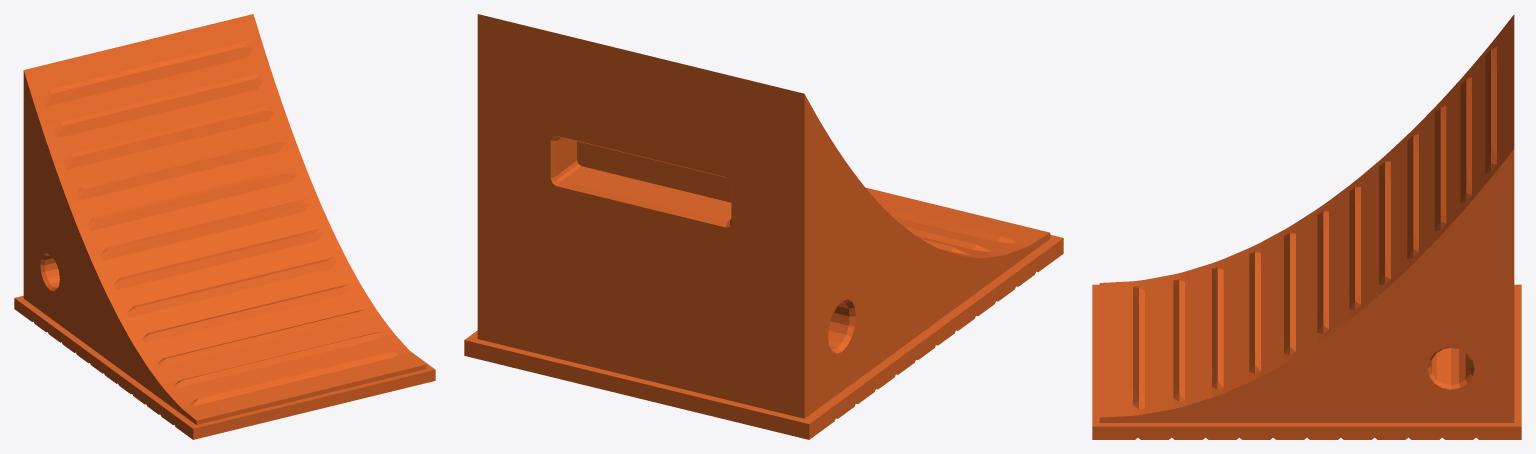
3 renders of one model, left to right at view 1: azimuth 30°, elevation 25°; view 2: azimuth 150°, elevation 25°; view 3: azimuth 270°, elevation 25°, orthographic. The views are drawn at different scales.
Visible parts, largest first — view 1: Complete_single_wheel_chock; view 2: Complete_single_wheel_chock; view 3: Complete_single_wheel_chock.
Part boxes in pixels (box(x1,y1,x2,y2)): Complete_single_wheel_chock: box(14, 14, 435, 439); Complete_single_wheel_chock: box(464, 14, 1063, 439); Complete_single_wheel_chock: box(1092, 14, 1521, 439).
Size of the model in its own units: 0.2286 by 0.2159 by 0.2921.
